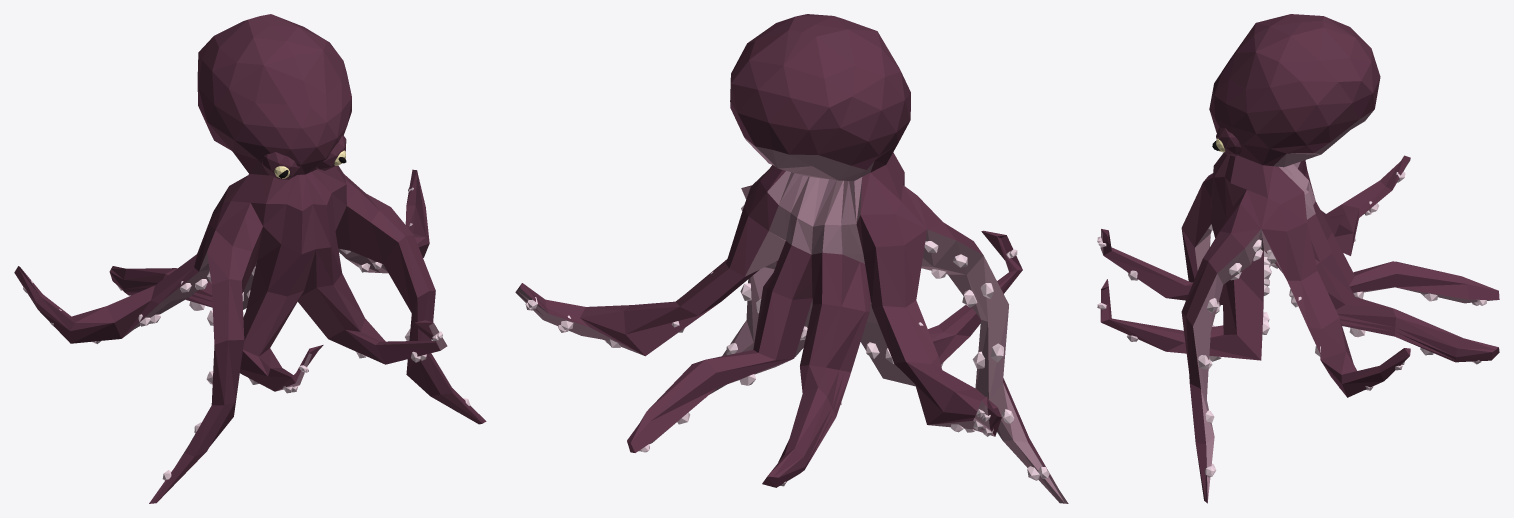
The model's file is octopus.obj.
3 renders of one model, left to right at view 1: azimuth 30°, elevation 25°; view 2: azimuth 150°, elevation 25°; view 3: azimuth 270°, elevation 25°, orthographic. The views are drawn at different scales.
Visible parts, largest first — view 1: Symmetry.1; view 2: Symmetry.1; view 3: Symmetry.1.
Part boxes in pixels (x1,y1,x2,y2): Symmetry.1: (14,14,486,503); Symmetry.1: (515,14,1068,503); Symmetry.1: (1097,14,1499,503).
Size of the model in its own units: 527 by 506 by 459.
